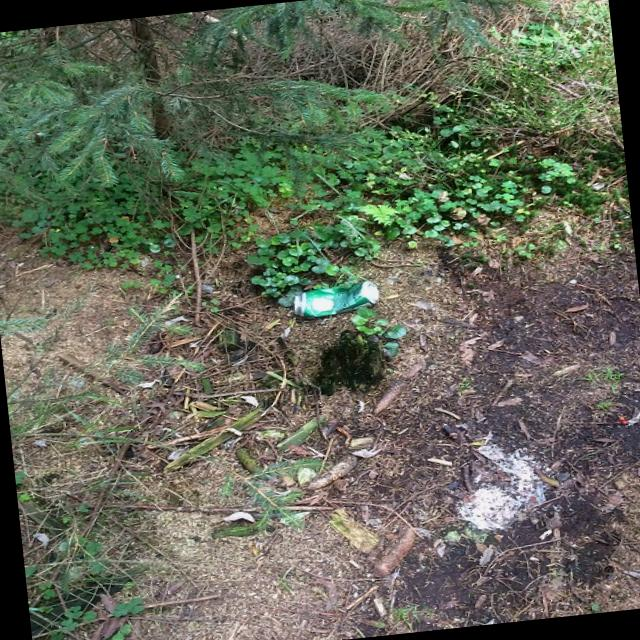Recycle: (283, 278, 387, 320)
